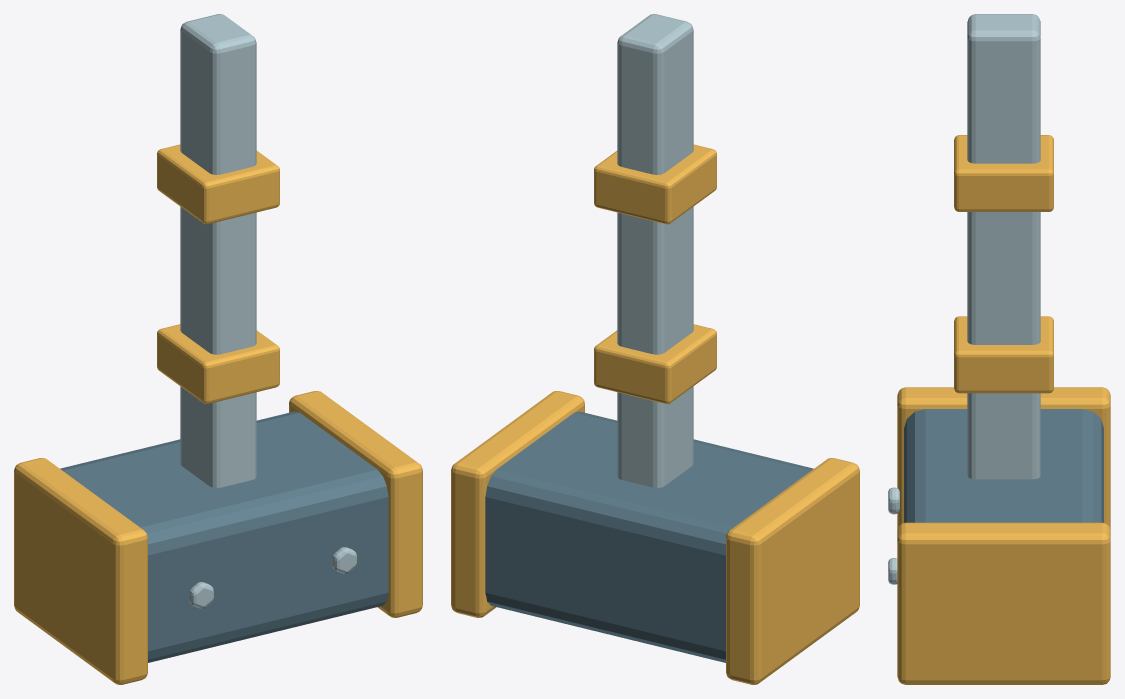
File: SM_RotatingHammer.fbx
3 renders of one model, left to right at view 1: azimuth 30°, elevation 25°; view 2: azimuth 150°, elevation 25°; view 3: azimuth 270°, elevation 25°, orthographic.
Parts seen in each view (by area): view 1: SM_RotatingHammer; view 2: SM_RotatingHammer; view 3: SM_RotatingHammer.
Boxes of the visible parts, <box> form: SM_RotatingHammer: <box>14,14,422,684</box>; SM_RotatingHammer: <box>451,14,859,684</box>; SM_RotatingHammer: <box>888,14,1110,684</box>.
Bounding box in the file's own units: 108 × 66.75 × 195.
